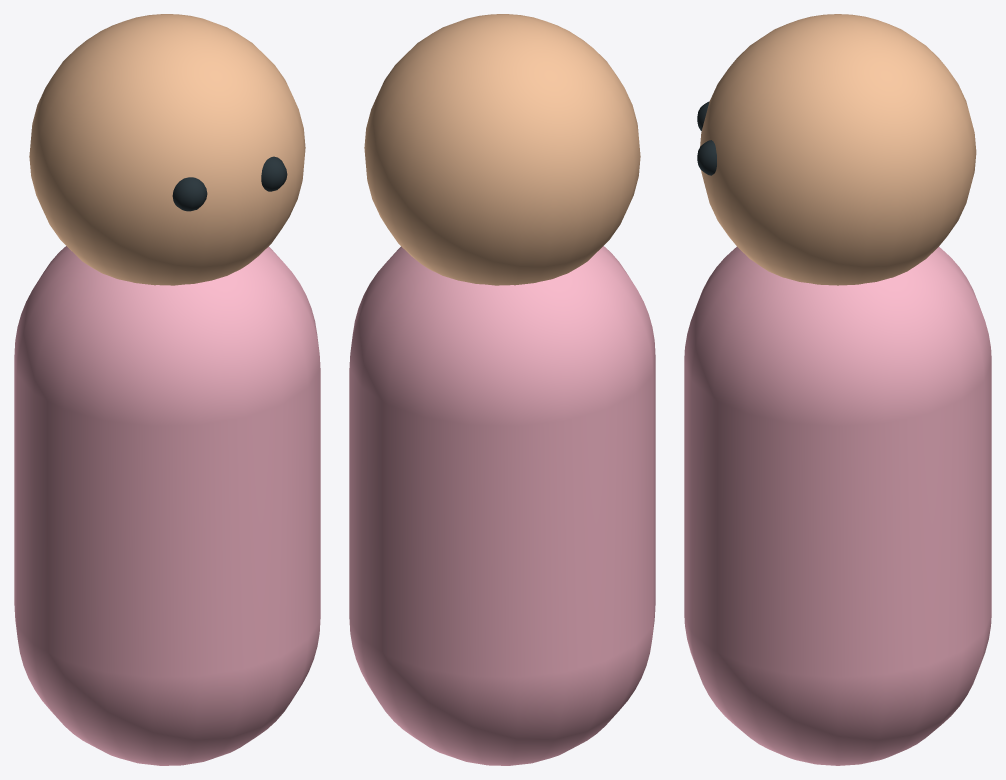
The model's file is mama.glb.
3 renders of one model, left to right at view 1: azimuth 30°, elevation 25°; view 2: azimuth 150°, elevation 25°; view 3: azimuth 270°, elevation 25°, orthographic.
Bounding box in the file's own units: 1 × 2.6 × 1.
